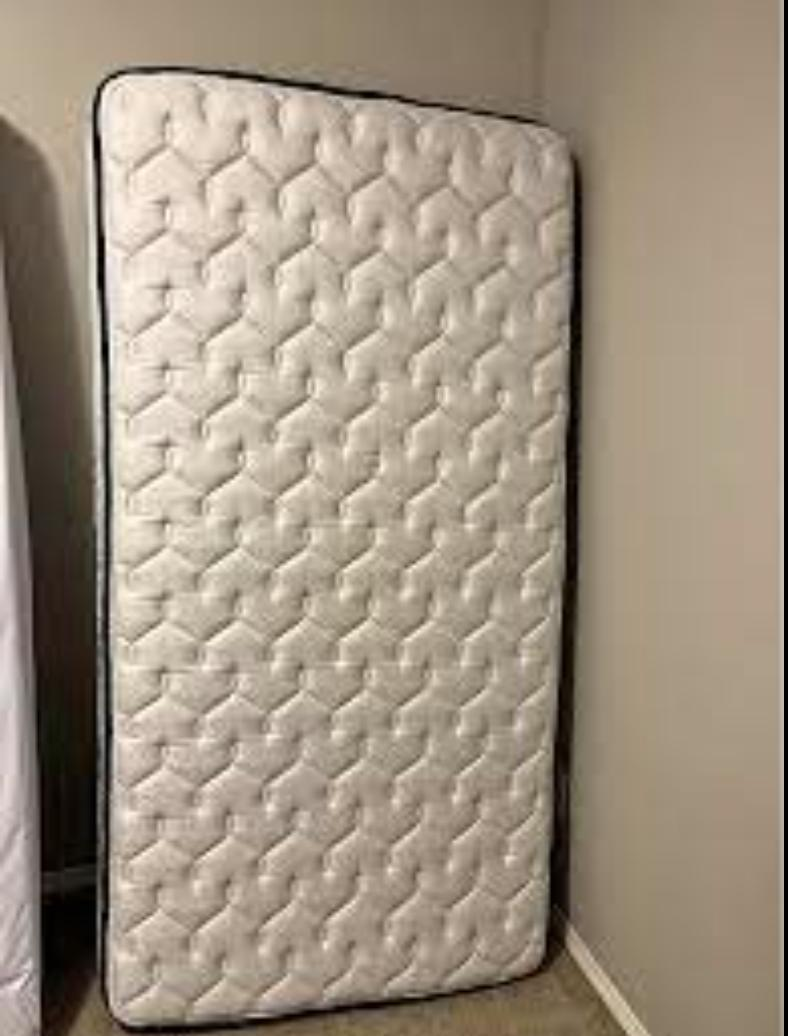Bed-Mattress: (88, 60, 580, 1030)
